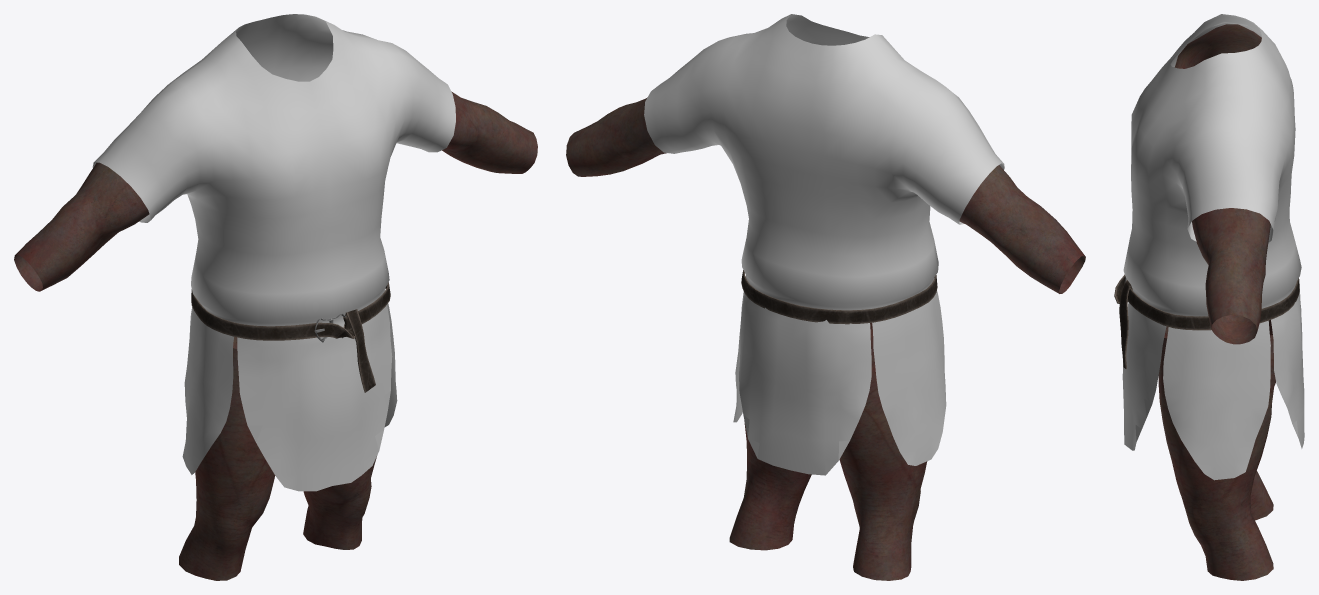
File: sk_uruk_hai_chainmail_a2.fbx
3 renders of one model, left to right at view 1: azimuth 30°, elevation 25°; view 2: azimuth 150°, elevation 25°; view 3: azimuth 270°, elevation 25°, orthographic. The views are drawn at different scales.
Parts seen in each view (by area): view 1: sk_uruk_hai_chainmail_a2.1, sk_uruk_hai_chainmail_a2.body.0, sk_uruk_hai_chainmail_a2.body.1, sk_uruk_hai_chainmail_a2.0; view 2: sk_uruk_hai_chainmail_a2.1, sk_uruk_hai_chainmail_a2.body.0, sk_uruk_hai_chainmail_a2.body.1, sk_uruk_hai_chainmail_a2.0; view 3: sk_uruk_hai_chainmail_a2.1, sk_uruk_hai_chainmail_a2.body.0, sk_uruk_hai_chainmail_a2.body.1, sk_uruk_hai_chainmail_a2.0.
Boxes of the visible parts, <box> form: sk_uruk_hai_chainmail_a2.1: <box>92,14,455,491</box>; sk_uruk_hai_chainmail_a2.body.0: <box>179,337,376,580</box>; sk_uruk_hai_chainmail_a2.body.1: <box>14,91,537,291</box>; sk_uruk_hai_chainmail_a2.0: <box>191,282,390,392</box>; sk_uruk_hai_chainmail_a2.1: <box>644,14,1004,475</box>; sk_uruk_hai_chainmail_a2.body.0: <box>729,323,927,580</box>; sk_uruk_hai_chainmail_a2.body.1: <box>566,97,1085,293</box>; sk_uruk_hai_chainmail_a2.0: <box>741,270,937,324</box>; sk_uruk_hai_chainmail_a2.1: <box>1122,14,1304,480</box>; sk_uruk_hai_chainmail_a2.body.0: <box>1158,320,1275,580</box>; sk_uruk_hai_chainmail_a2.body.1: <box>1174,24,1270,344</box>; sk_uruk_hai_chainmail_a2.0: <box>1114,274,1299,368</box>.
Size of the model in its own units: 1.2 by 0.4043 by 1.19.
